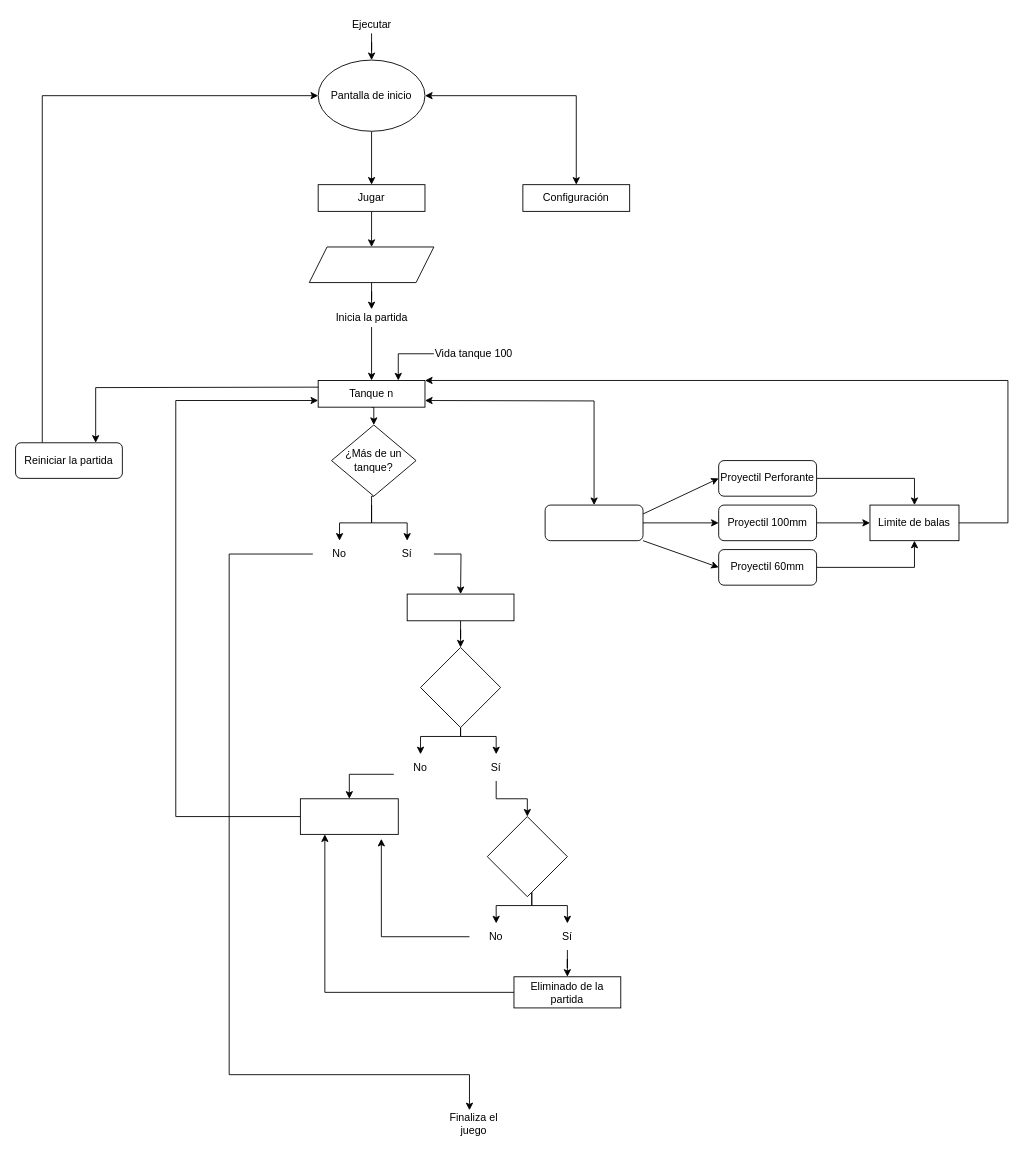
The diagram is 1031 pixels wide and 1152 high, and some of its shapes have lost their labels. The shapes that lost their labels are listed below. From the top down, each one's centre as x and y in pixels, then its label:
the point at 371,264: Registrar jugadores
the point at 593,522: Cambio de arma
the point at 460,607: Dispara
the point at 460,687: ¿Impacta con un tanque?
the point at 348,816: Siguiente partida
the point at 526,856: ¿Le quita toda la vida?
